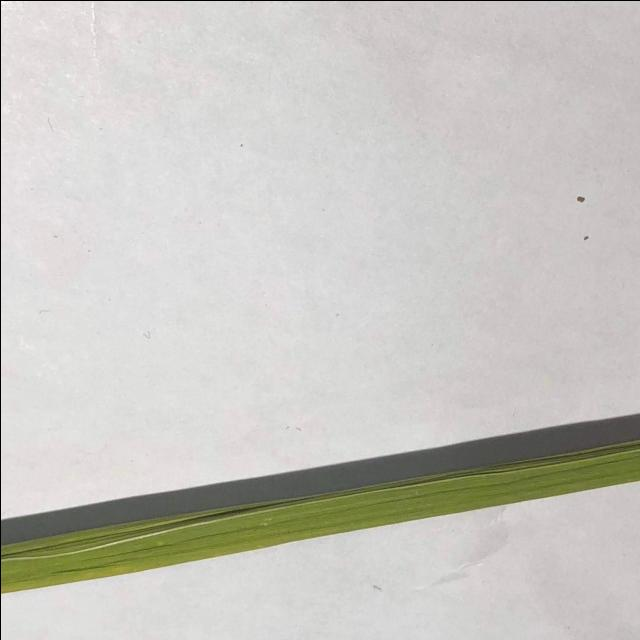healthy: (0, 429, 640, 640)
